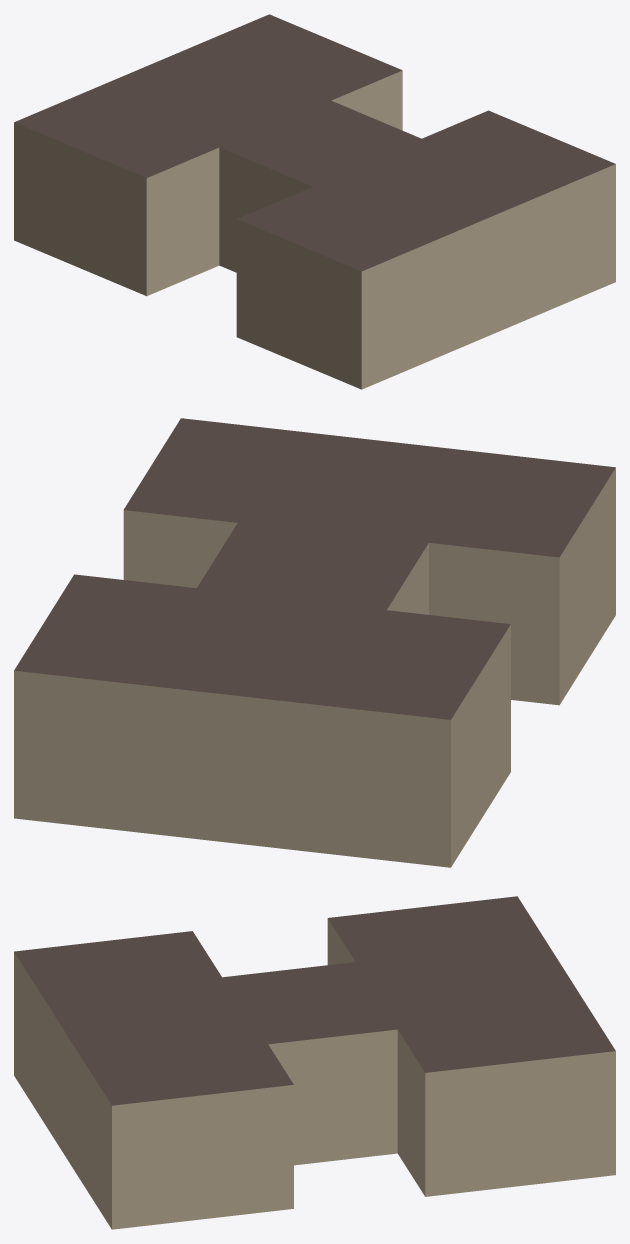
3 views of the same model, one above another, from view 1: azimuth 30°, elevation 25°; view 2: azimuth 150°, elevation 25°; view 3: azimuth 270°, elevation 25° (orthographic). The views are drawn at different scales.
Visible parts, largest first — view 1: HP-w299010051; view 2: HP-w299010051; view 3: HP-w299010051.
Boxes of the visible parts, x1=… form: HP-w299010051: x1=14, y1=14, x2=615, y2=389; HP-w299010051: x1=14, y1=418, x2=615, y2=867; HP-w299010051: x1=14, y1=896, x2=615, y2=1229.
Bounding box in the file's own units: 32.6 × 9 × 39.59.
